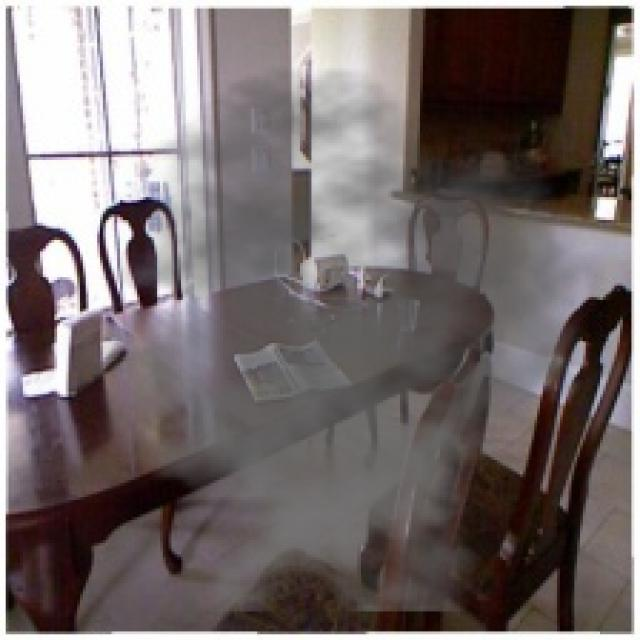smoke: (57, 66, 606, 611)
